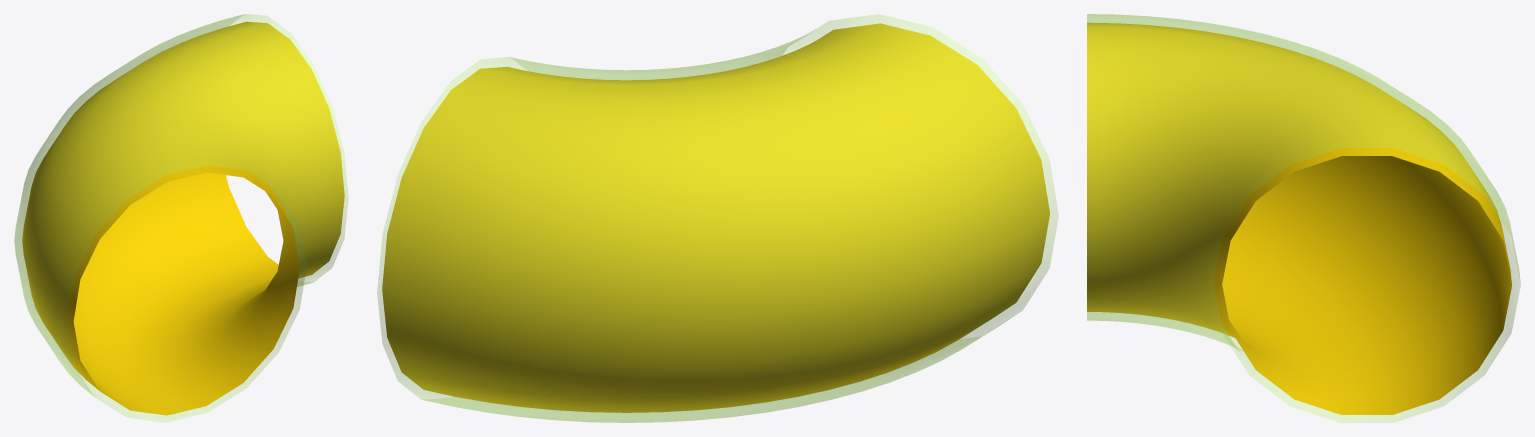
The model's file is 冷却供-弯头.glb.
3 views of the same model, side by side, from view 1: azimuth 30°, elevation 25°; view 2: azimuth 150°, elevation 25°; view 3: azimuth 270°, elevation 25° (orthographic). The views are drawn at different scales.
Visible parts, largest first — view 1: 贴图, Box001; view 2: Box001, 贴图; view 3: 贴图, Box001.
Part boxes in pixels (x1,y1,x2,y2): 贴图: (22,21,344,415); Box001: (14,14,348,422); Box001: (377,14,1058,422); 贴图: (382,23,1049,412); 贴图: (1087,22,1511,414); Box001: (1087,14,1520,422).
Size of the model in its own units: 4.93 by 3.45 by 4.93.
